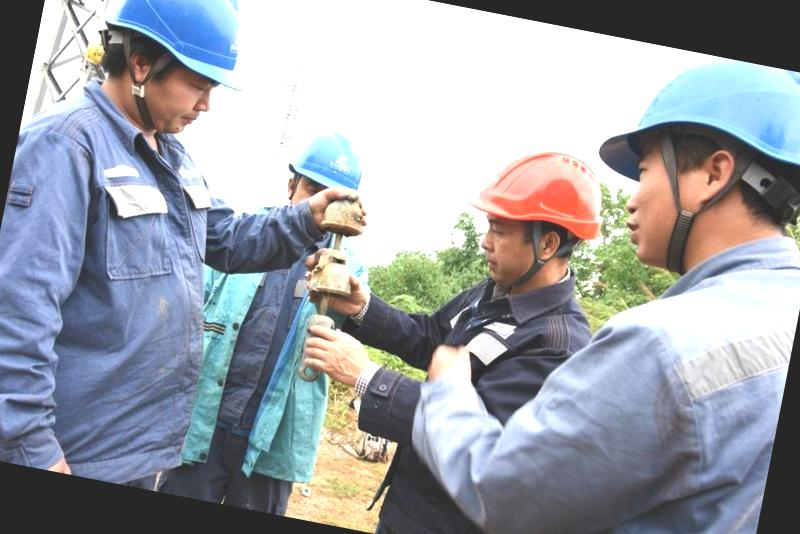helmet: (593, 36, 800, 186), (99, 0, 275, 91), (469, 137, 617, 242), (284, 122, 371, 197)
no_vest: (0, 102, 233, 444), (570, 210, 800, 534)
person: (523, 39, 800, 534), (0, 0, 276, 495), (357, 127, 615, 534), (168, 110, 407, 526)
